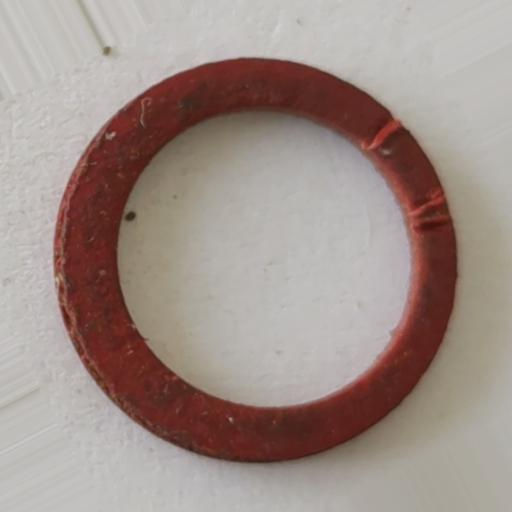defect: (365, 116, 401, 153), (407, 190, 448, 214), (412, 213, 452, 235)
